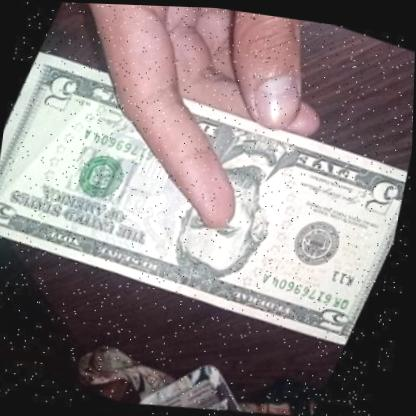dollar_front: (0, 20, 416, 374)
